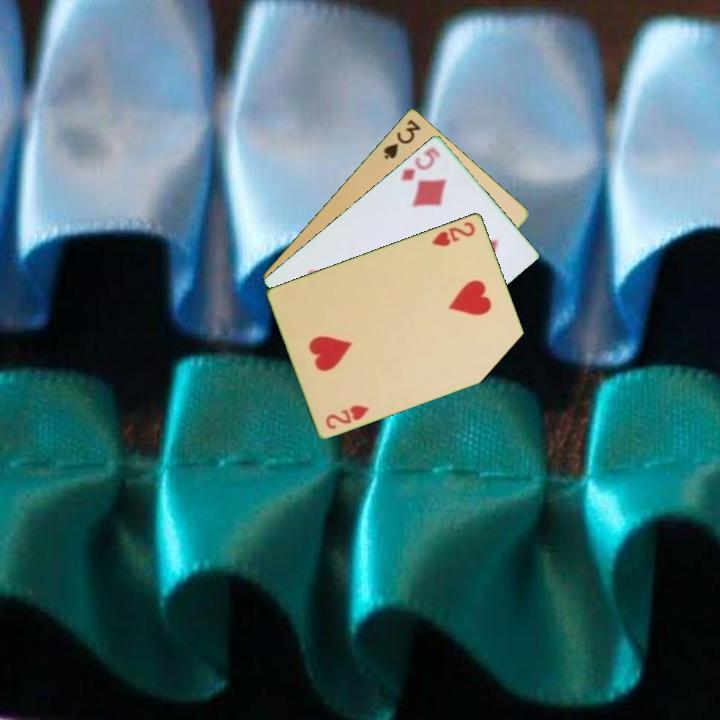2h: (428, 217, 478, 249), (322, 401, 372, 432)
3s: (380, 115, 423, 162)
5d: (397, 143, 443, 183)
